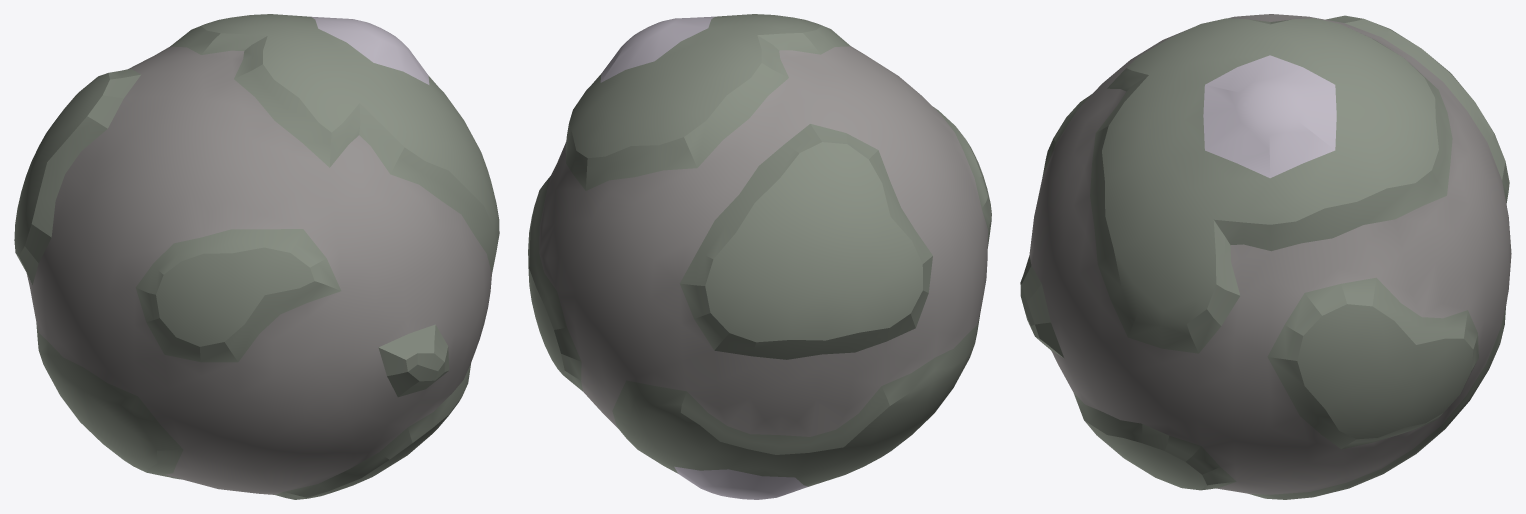
The model's file is Planet_1-transformed.glb.
3 views of the same model, side by side, from view 1: azimuth 30°, elevation 25°; view 2: azimuth 150°, elevation 25°; view 3: azimuth 270°, elevation 25° (orthographic). The views are drawn at different scales.
Parts seen in each view (by area): view 1: Planet_1; view 2: Planet_1; view 3: Planet_1.
Part boxes in pixels (x1,y1,x2,y2): Planet_1: (14,14,499,499); Planet_1: (528,14,991,499); Planet_1: (1020,14,1511,499).
Bounding box in the file's own units: 3.78 × 3.93 × 3.8.
Materials: 1 (1 with a texture image).
